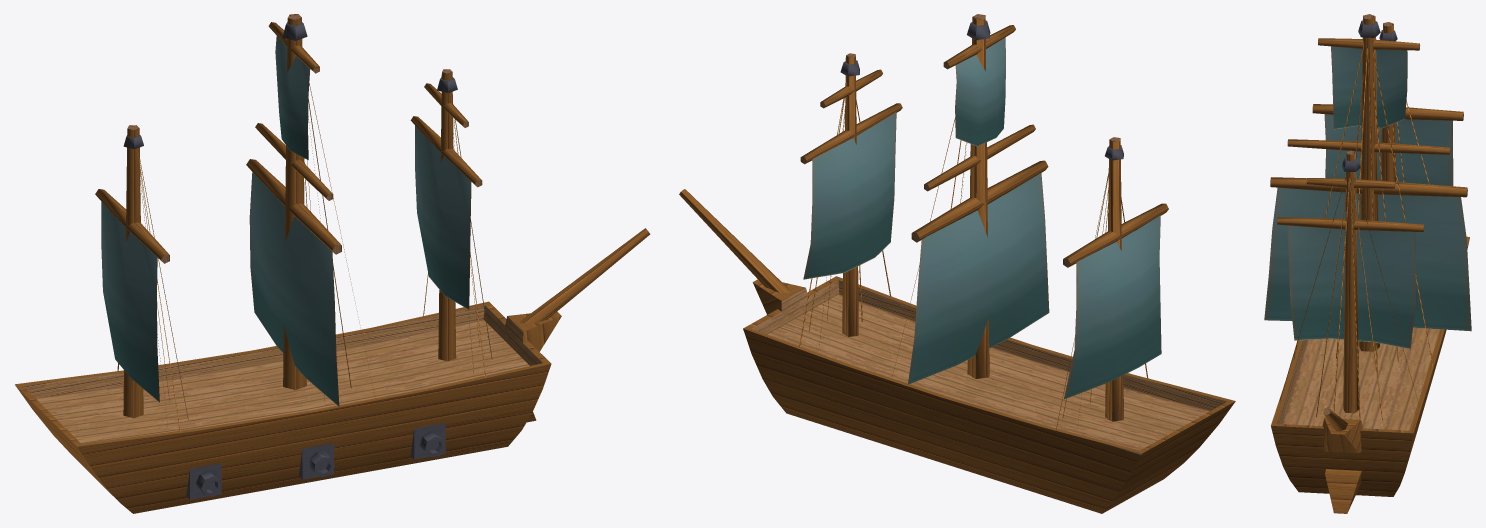
File: decorLarge-harbor-74.glb
The picture shows the model from 3 angles, left to right: view 1: azimuth 30°, elevation 25°; view 2: azimuth 150°, elevation 25°; view 3: azimuth 270°, elevation 25°; orthographic projection. The views are drawn at different scales.
Parts seen in each view (by area): view 1: piece; view 2: piece; view 3: piece.
Part boxes in pixels (left/top/right/bottom): piece: left=15, top=14, right=650, bottom=513; piece: left=679, top=14, right=1235, bottom=513; piece: left=1264, top=14, right=1471, bottom=513.
Bounding box in the file's own units: 17.82 × 13.2 × 6.23.
Materials: 1 (1 with a texture image).
